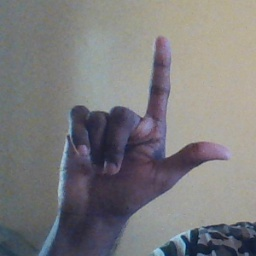L: (54, 34, 230, 214)
